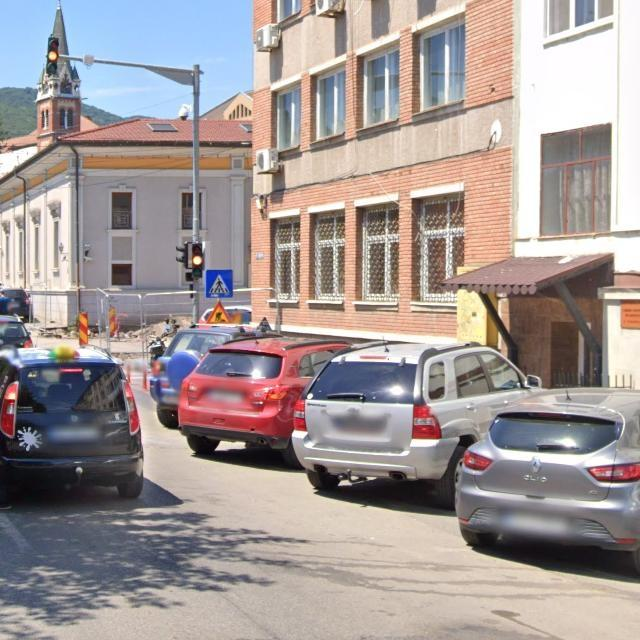info_crosswalk: (206, 269, 233, 298)
